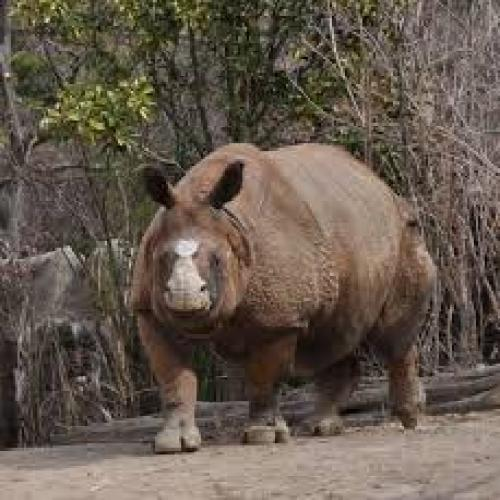rhino-endangered: (122, 139, 441, 456)
